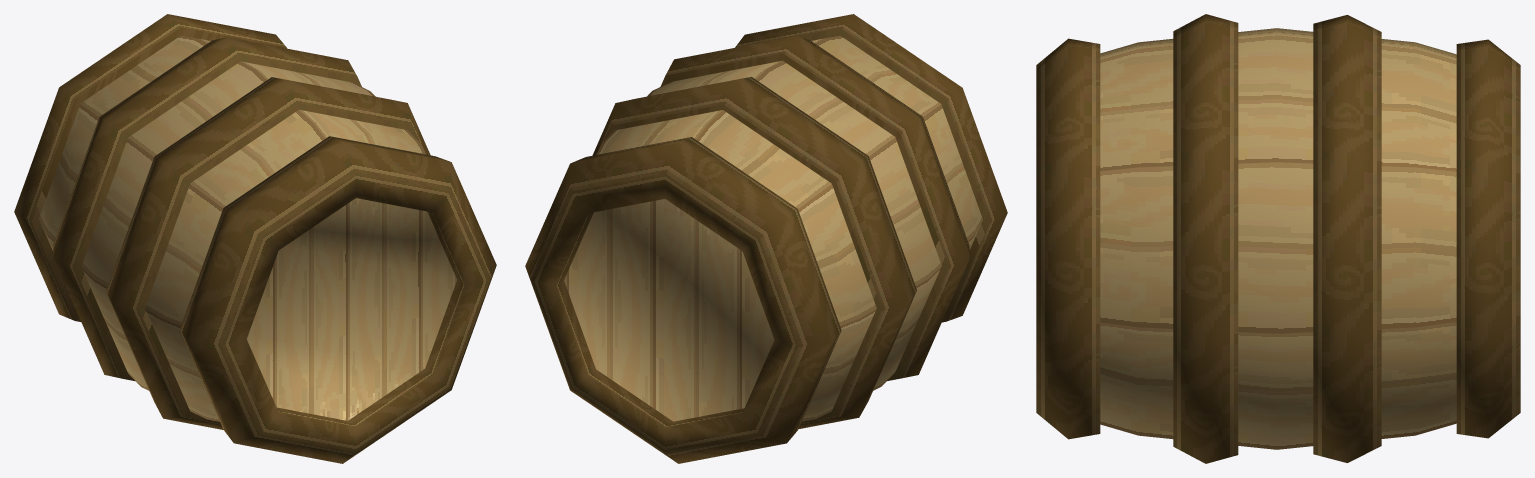
The model's file is barrel3.glb.
3 renders of one model, left to right at view 1: azimuth 30°, elevation 25°; view 2: azimuth 150°, elevation 25°; view 3: azimuth 270°, elevation 25°, orthographic. The views are drawn at different scales.
Parts seen in each view (by area): view 1: mesh-1; view 2: mesh-1; view 3: mesh-1.
Part boxes in pixels (box(x1,y1,x2,y2)): mesh-1: box(14, 14, 496, 463); mesh-1: box(525, 14, 1007, 463); mesh-1: box(1036, 14, 1520, 463).
Bounding box in the file's own units: 101 × 101 × 102.
Materials: 2 (2 with a texture image).
